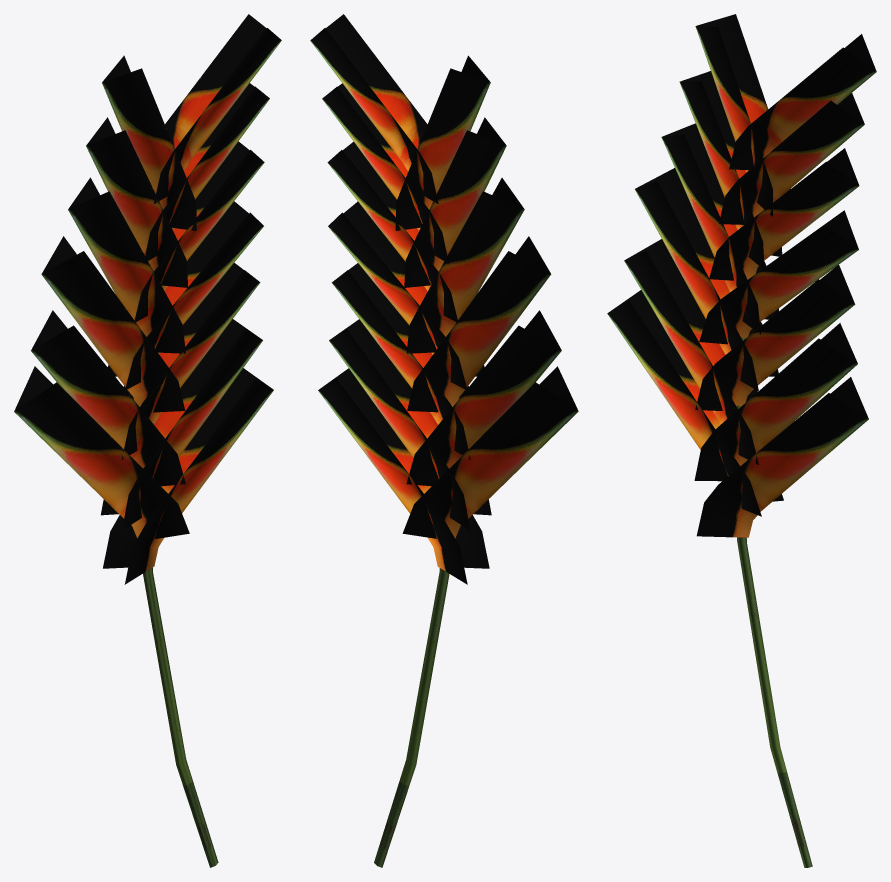
Rendered from dub_flower_vase_dp12_lod0.glb.
3 renders of one model, left to right at view 1: azimuth 30°, elevation 25°; view 2: azimuth 150°, elevation 25°; view 3: azimuth 330°, elevation 25°, orthographic.
Visible parts, largest first — view 1: surf0; view 2: surf0; view 3: surf0.
Boxes of the visible parts, bbox=[...] form: surf0: bbox=[14, 14, 281, 867]; surf0: bbox=[310, 14, 578, 867]; surf0: bbox=[607, 14, 876, 867].
Bounding box in the file's own units: 15.89 × 47.28 × 2.26.
